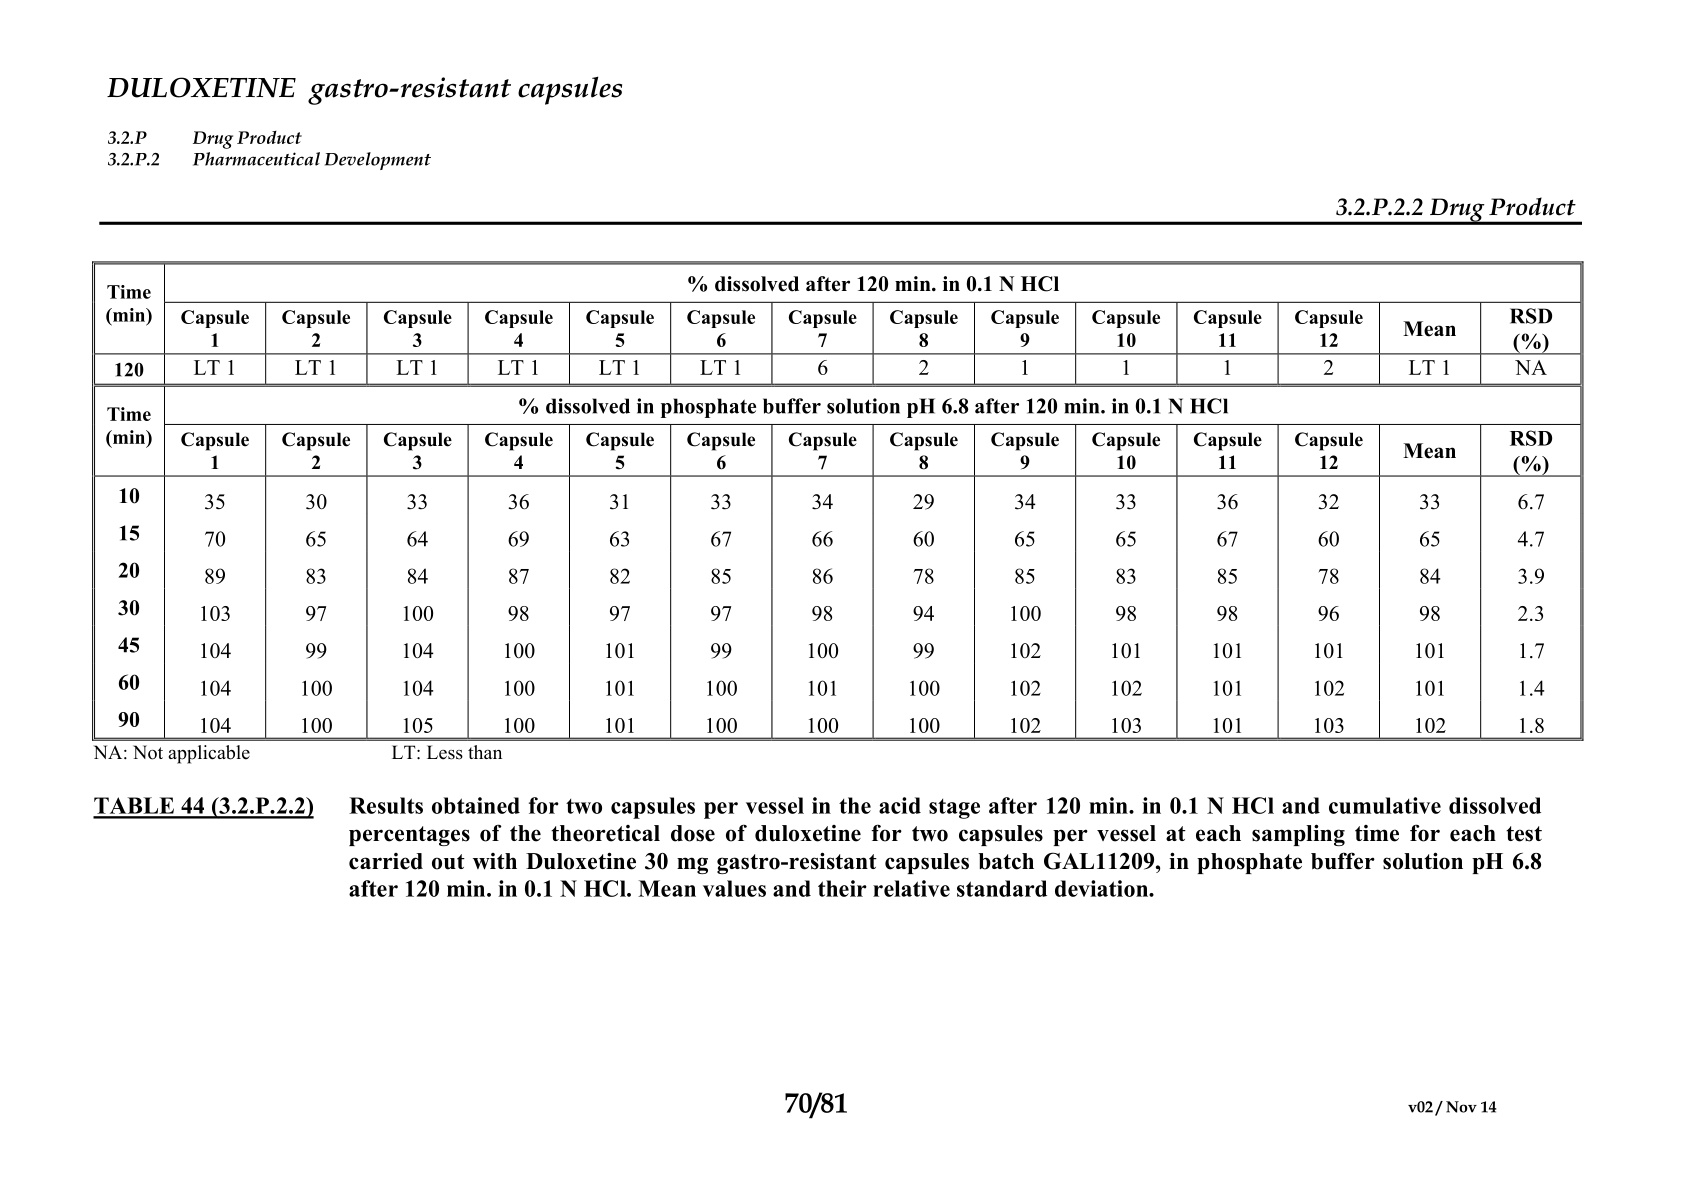merged_cells: (91, 260, 1584, 742)
